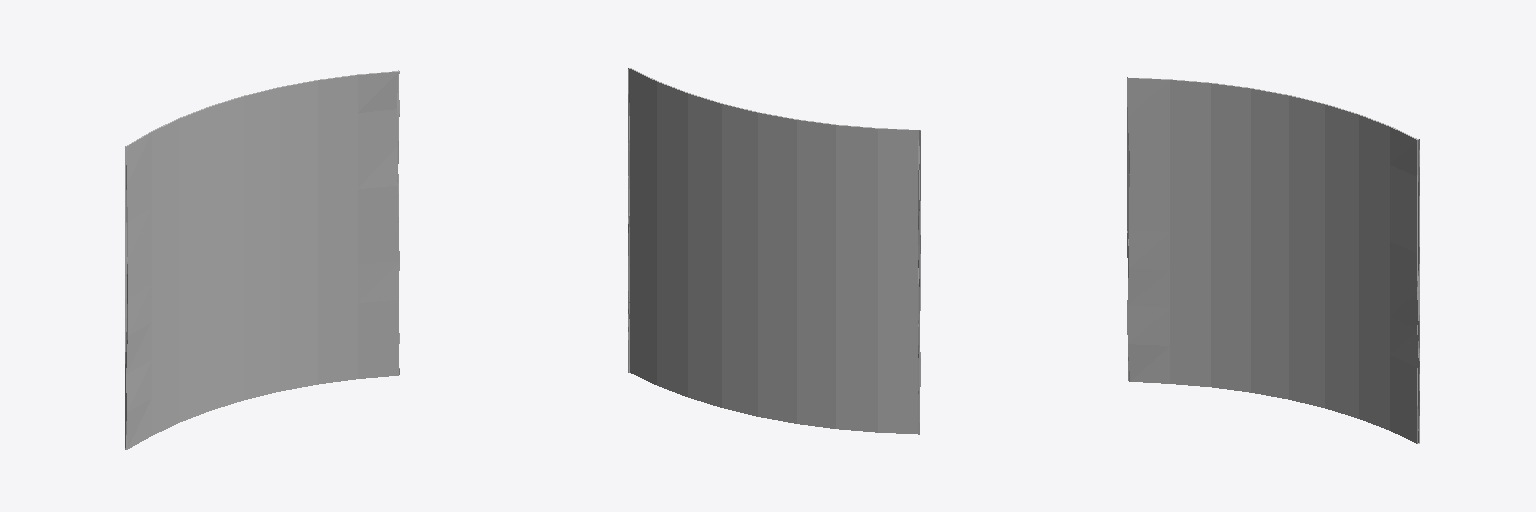
The model's file is curved.obj.
3 renders of one model, left to right at view 1: azimuth 30°, elevation 25°; view 2: azimuth 150°, elevation 25°; view 3: azimuth 330°, elevation 25°, orthographic.
Visible parts, largest first — view 1: Plane; view 2: Plane; view 3: Plane.
Part boxes in pixels (x1,y1,x2,y2): Plane: (125,70,399,449); Plane: (628,68,920,434); Plane: (1127,77,1419,443).
Bounding box in the file's own units: 1.95 × 2 × 0.277.